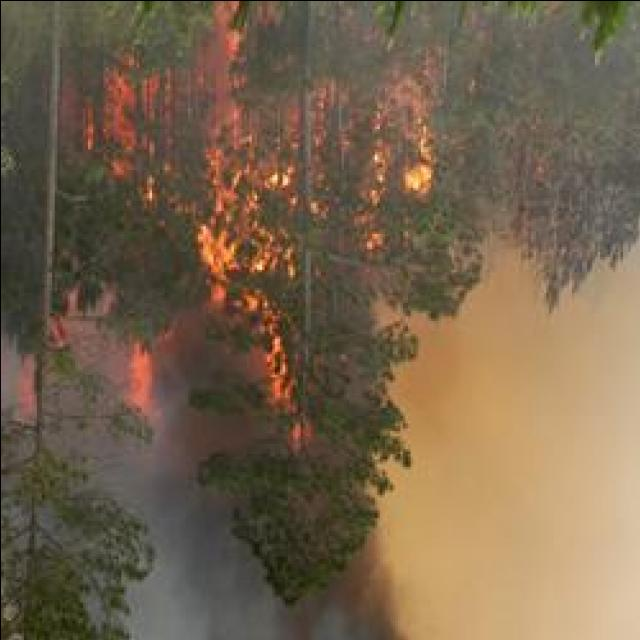fire: (198, 226, 234, 270), (400, 162, 438, 192)
smoke: (170, 543, 247, 640), (311, 582, 388, 640)
